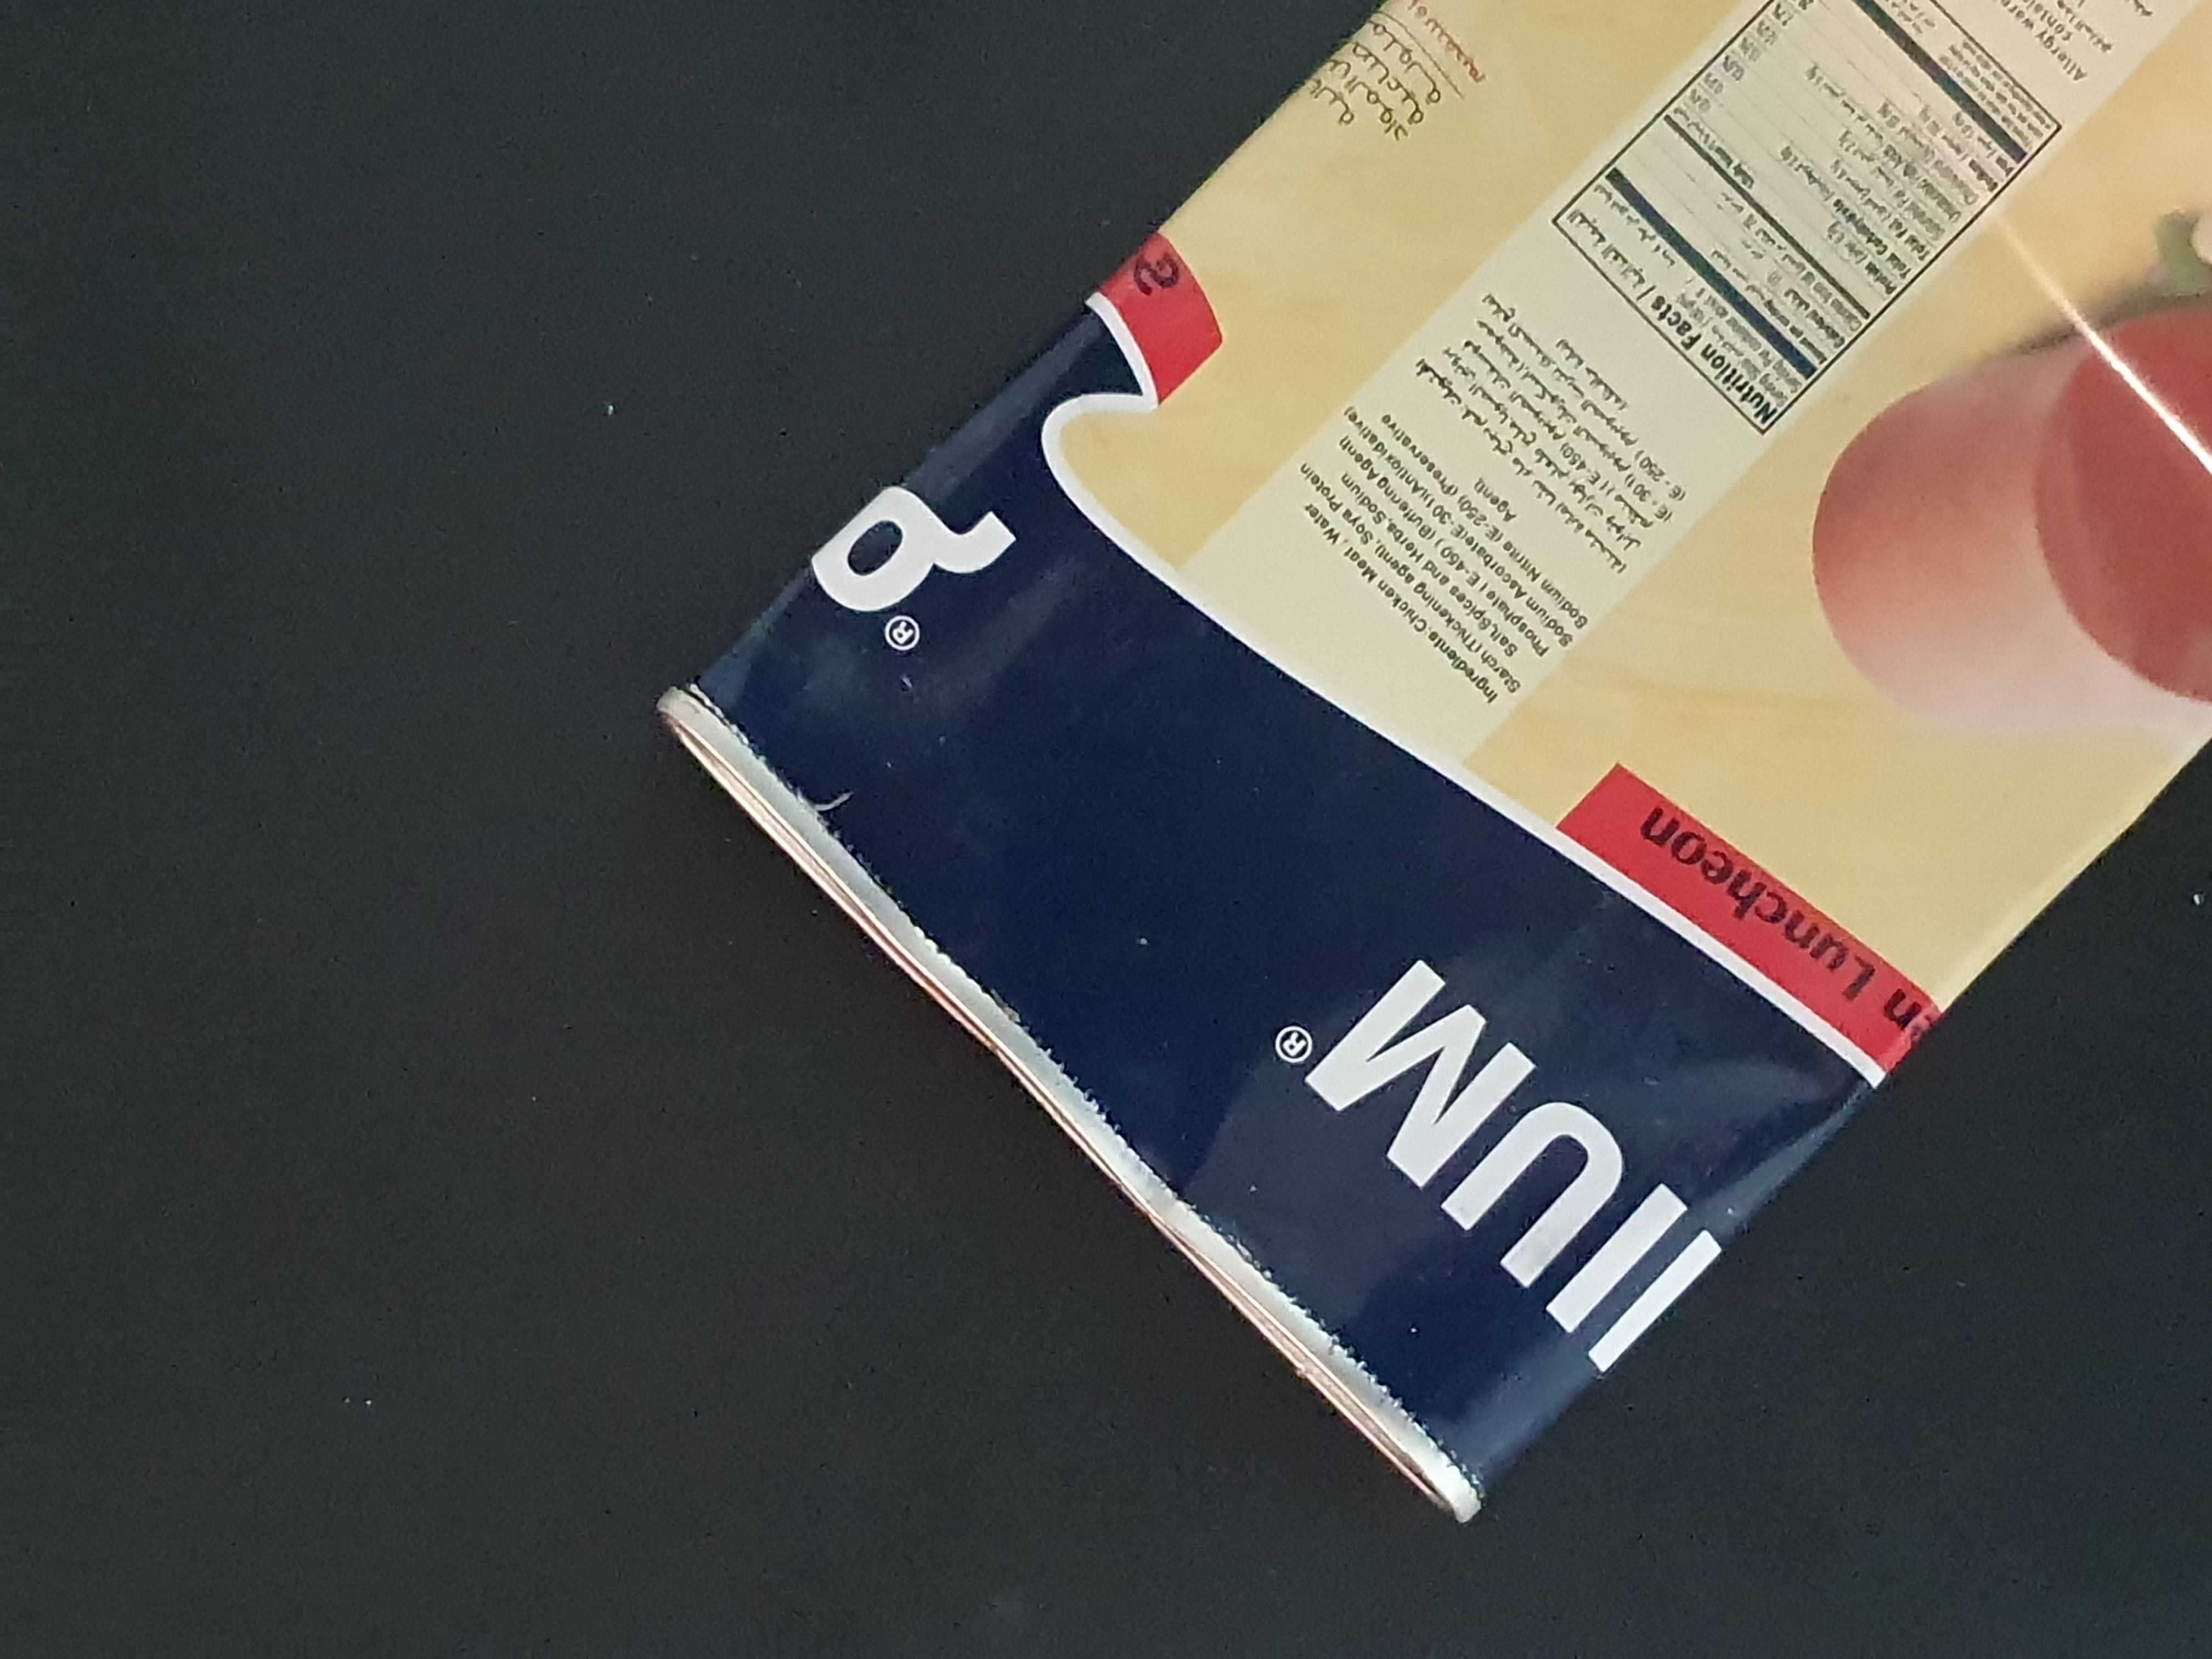metal: (610, 14, 2212, 1565)
